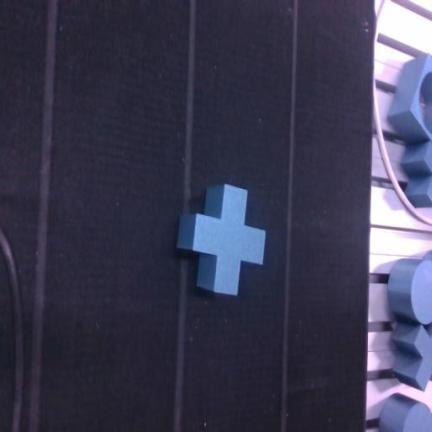cross: (178, 184, 265, 295)
